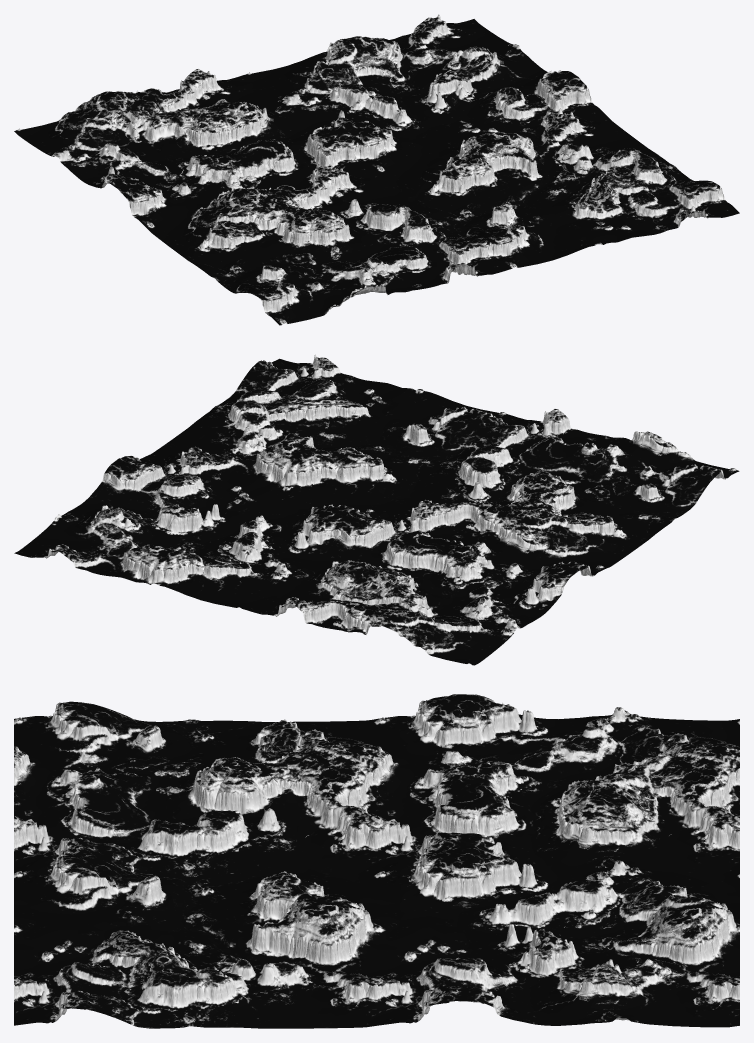
The model's file is canyon.glb.
The picture shows the model from 3 angles, top to bottom: view 1: azimuth 30°, elevation 25°; view 2: azimuth 150°, elevation 25°; view 3: azimuth 270°, elevation 25°; orthographic projection. The views are drawn at different scales.
Visible parts, largest first — view 1: Canyon Desert Landscape; view 2: Canyon Desert Landscape; view 3: Canyon Desert Landscape.
Part boxes in pixels (box(x1,y1,x2,y2)): Canyon Desert Landscape: box(14, 14, 739, 325); Canyon Desert Landscape: box(14, 354, 739, 665); Canyon Desert Landscape: box(14, 694, 739, 1028).
Bounding box in the file's own units: 1338 × 79.77 × 1338.
Materials: 1 (1 with a texture image).
